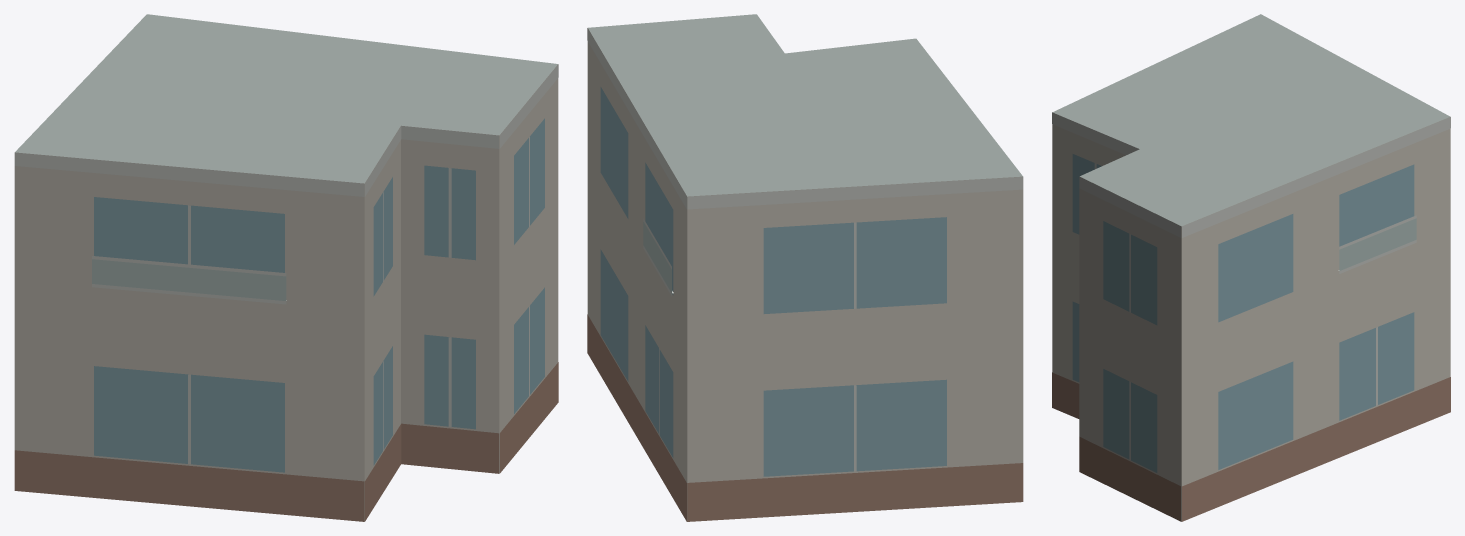
Rendered from survey-upis-32835921.glb.
3 views of the same model, side by side, from view 1: azimuth 30°, elevation 25°; view 2: azimuth 150°, elevation 25°; view 3: azimuth 270°, elevation 25° (orthographic). The views are drawn at different scales.
Parts seen in each view (by area): view 1: survey-upis-32835921.tmp; view 2: survey-upis-32835921.tmp; view 3: survey-upis-32835921.tmp.
Boxes of the visible parts, <box> form: survey-upis-32835921.tmp: <box>14,14,558,521</box>; survey-upis-32835921.tmp: <box>587,14,1023,521</box>; survey-upis-32835921.tmp: <box>1052,14,1450,521</box>.
Size of the model in its own units: 9.41 by 6.1 by 7.46.
